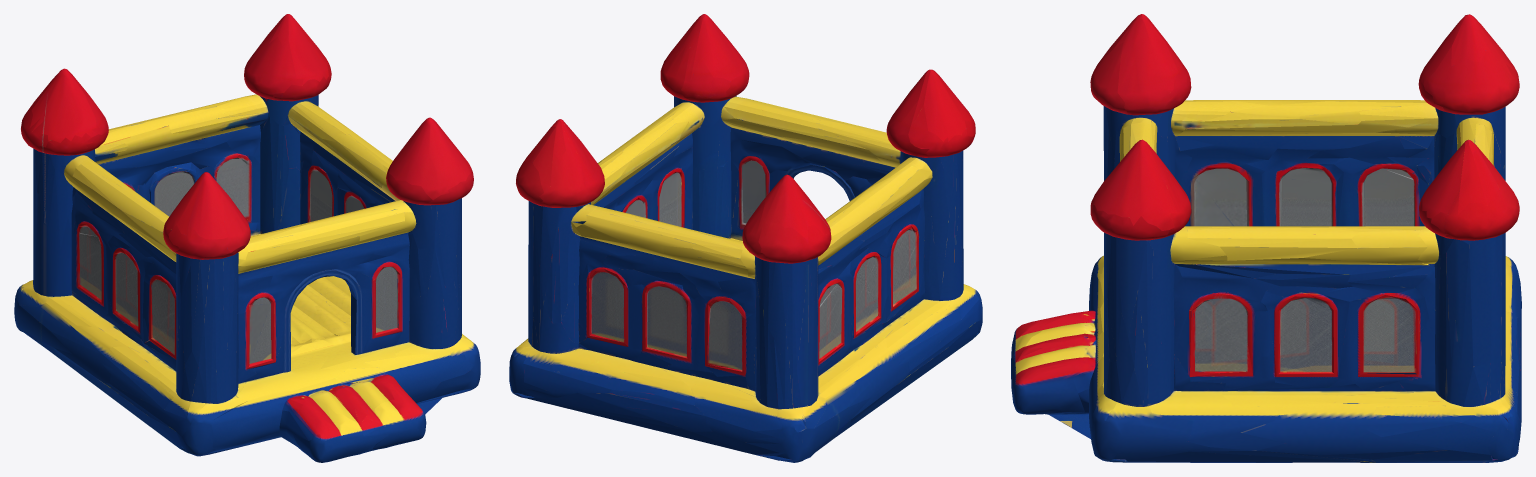
File: bouncy_castle.glb
3 renders of one model, left to right at view 1: azimuth 30°, elevation 25°; view 2: azimuth 150°, elevation 25°; view 3: azimuth 270°, elevation 25°, orthographic. The views are drawn at different scales.
Bounding box in the file's own units: 1.49 × 1.28 × 1.9.
1 material, 1 textured.
